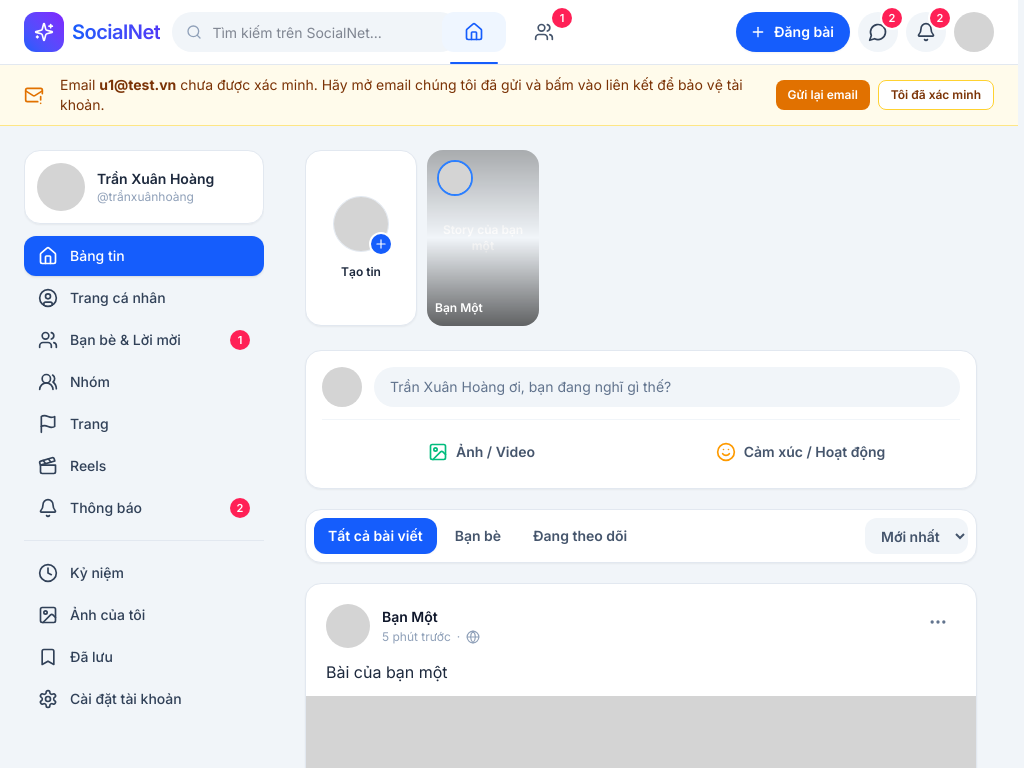
Banner nhắc xác minh › gửi lại lỗi mạng (không phải ApiError) → câu mặc định
Click the button "Gửi lại email": x=823, y=95 776,80 -> 870,110
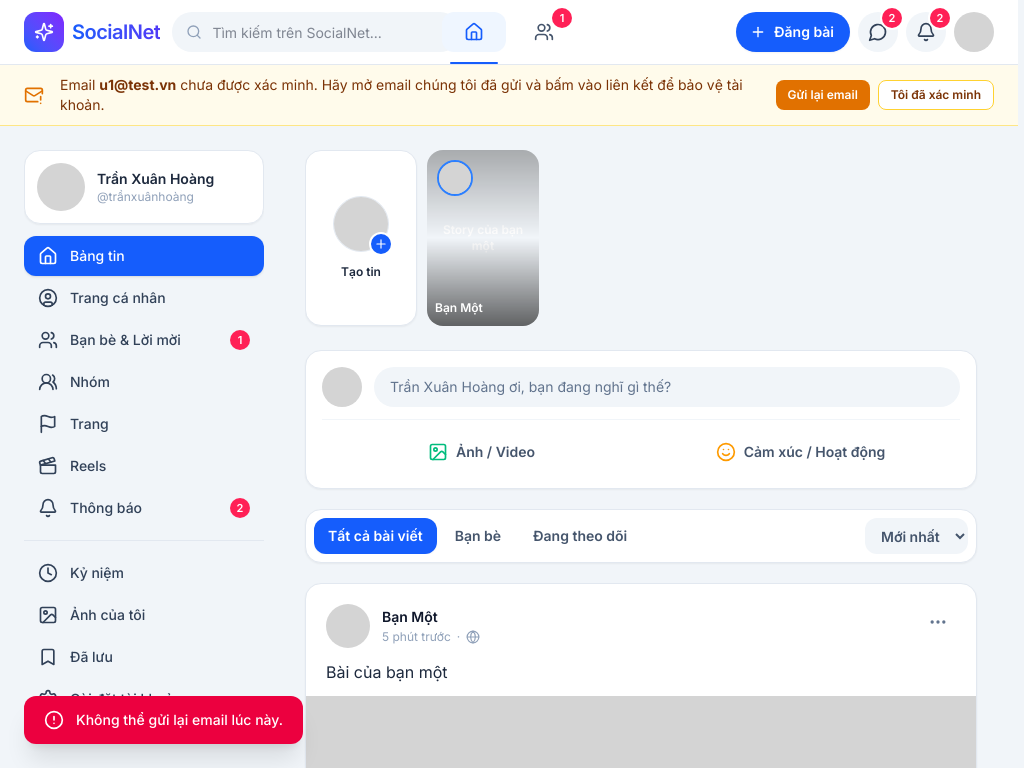
Expected: the text "Không thể gửi lại email lúc này." is shown, 76,710 -> 283,730
